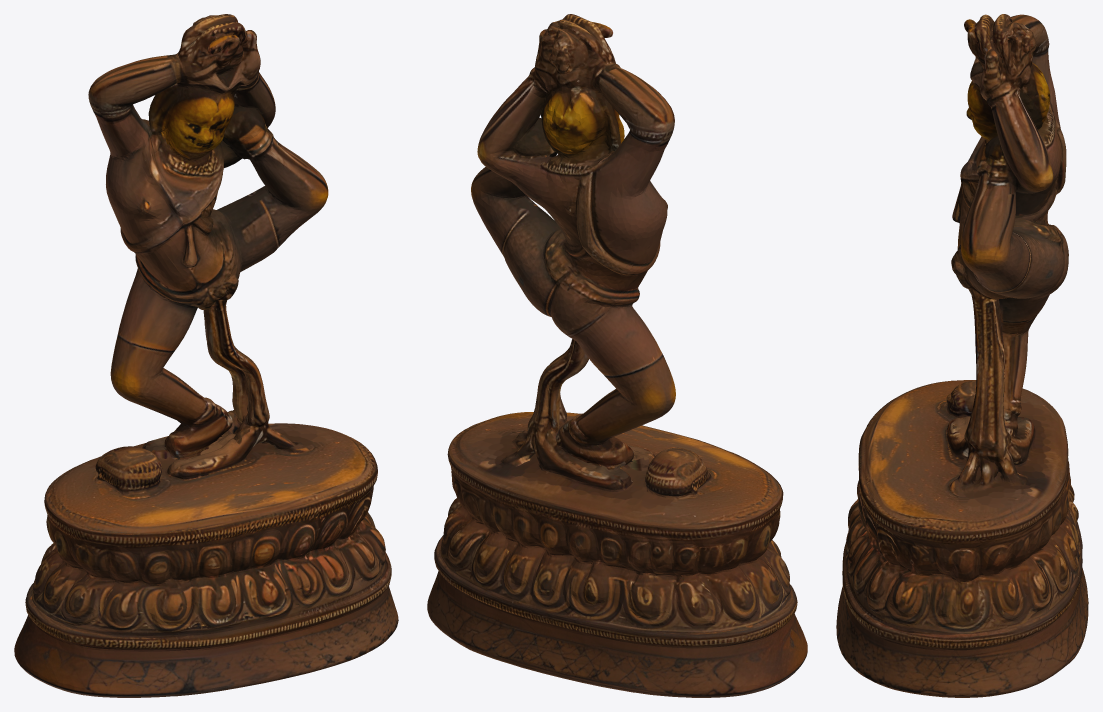
The picture shows the model from 3 angles, left to right: view 1: azimuth 30°, elevation 25°; view 2: azimuth 150°, elevation 25°; view 3: azimuth 270°, elevation 25°; orthographic projection. The views are drawn at different scales.
Visible parts, largest first — view 1: textured_mesh; view 2: textured_mesh; view 3: textured_mesh.
Boxes of the visible parts, box(x1,y1,x2,y2) form: textured_mesh: box(14, 14, 398, 697); textured_mesh: box(427, 14, 807, 697); textured_mesh: box(836, 14, 1088, 697).
Size of the model in its own units: 1.2 by 1.99 by 0.7448.
1 material, 1 textured.
